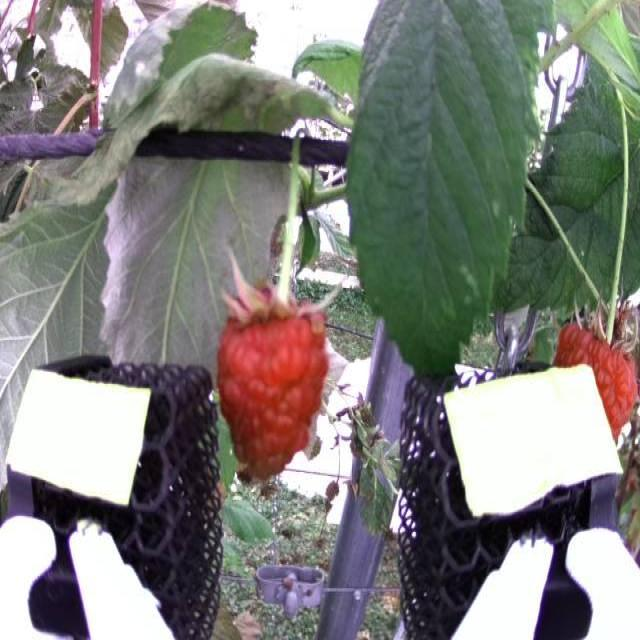Riped berries: (216, 273, 335, 482), (554, 301, 640, 432)
